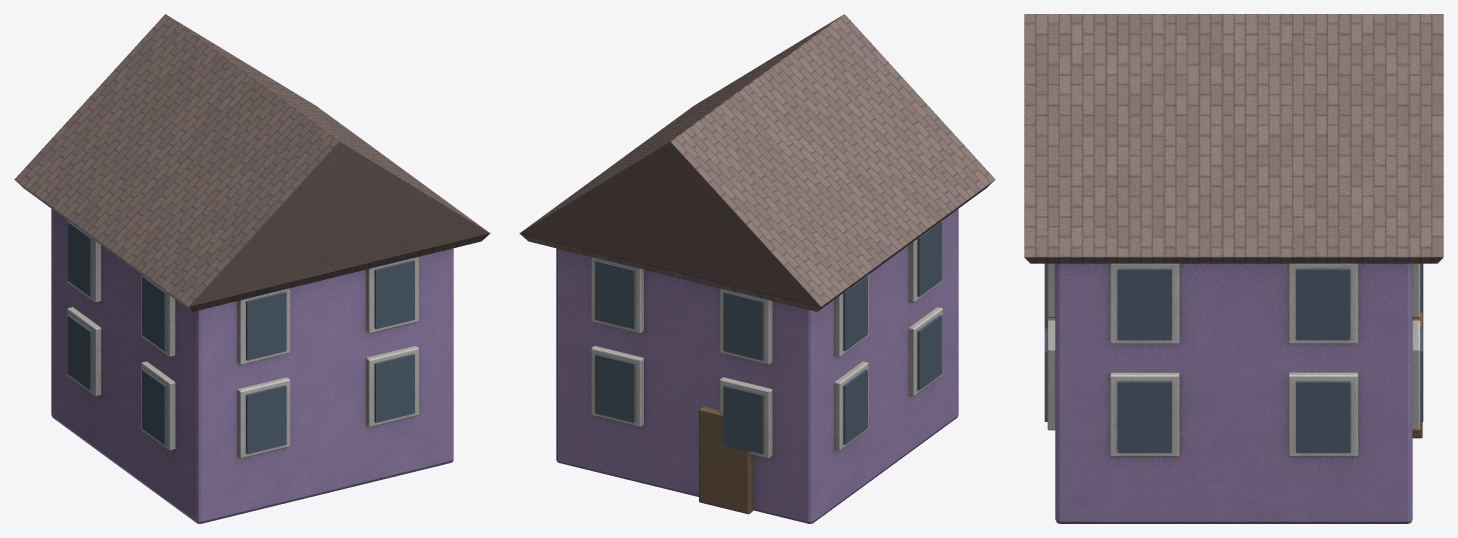
The model's file is reihe_fantasy.glb.
3 renders of one model, left to right at view 1: azimuth 30°, elevation 25°; view 2: azimuth 150°, elevation 25°; view 3: azimuth 270°, elevation 25°, orthographic. The views are drawn at different scales.
Parts seen in each view (by area): view 1: reihe_fantasy, reihe_fantasy_details; view 2: reihe_fantasy, reihe_fantasy_details; view 3: reihe_fantasy, reihe_fantasy_details.
Boxes of the visible parts, bbox=[...] form: reihe_fantasy: bbox=[14, 14, 490, 523]; reihe_fantasy_details: bbox=[67, 221, 414, 453]; reihe_fantasy: bbox=[519, 14, 995, 523]; reihe_fantasy_details: bbox=[595, 221, 942, 453]; reihe_fantasy: bbox=[1024, 14, 1443, 523]; reihe_fantasy_details: bbox=[1044, 263, 1423, 452].
Bounding box in the file's own units: 0.54 × 0.62 × 0.54.
2 materials, 1 textured.
